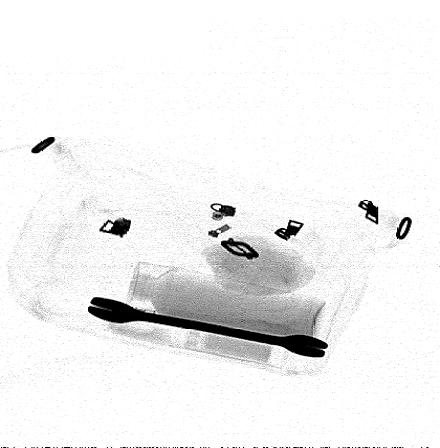Wrench: (114, 172, 274, 248)
